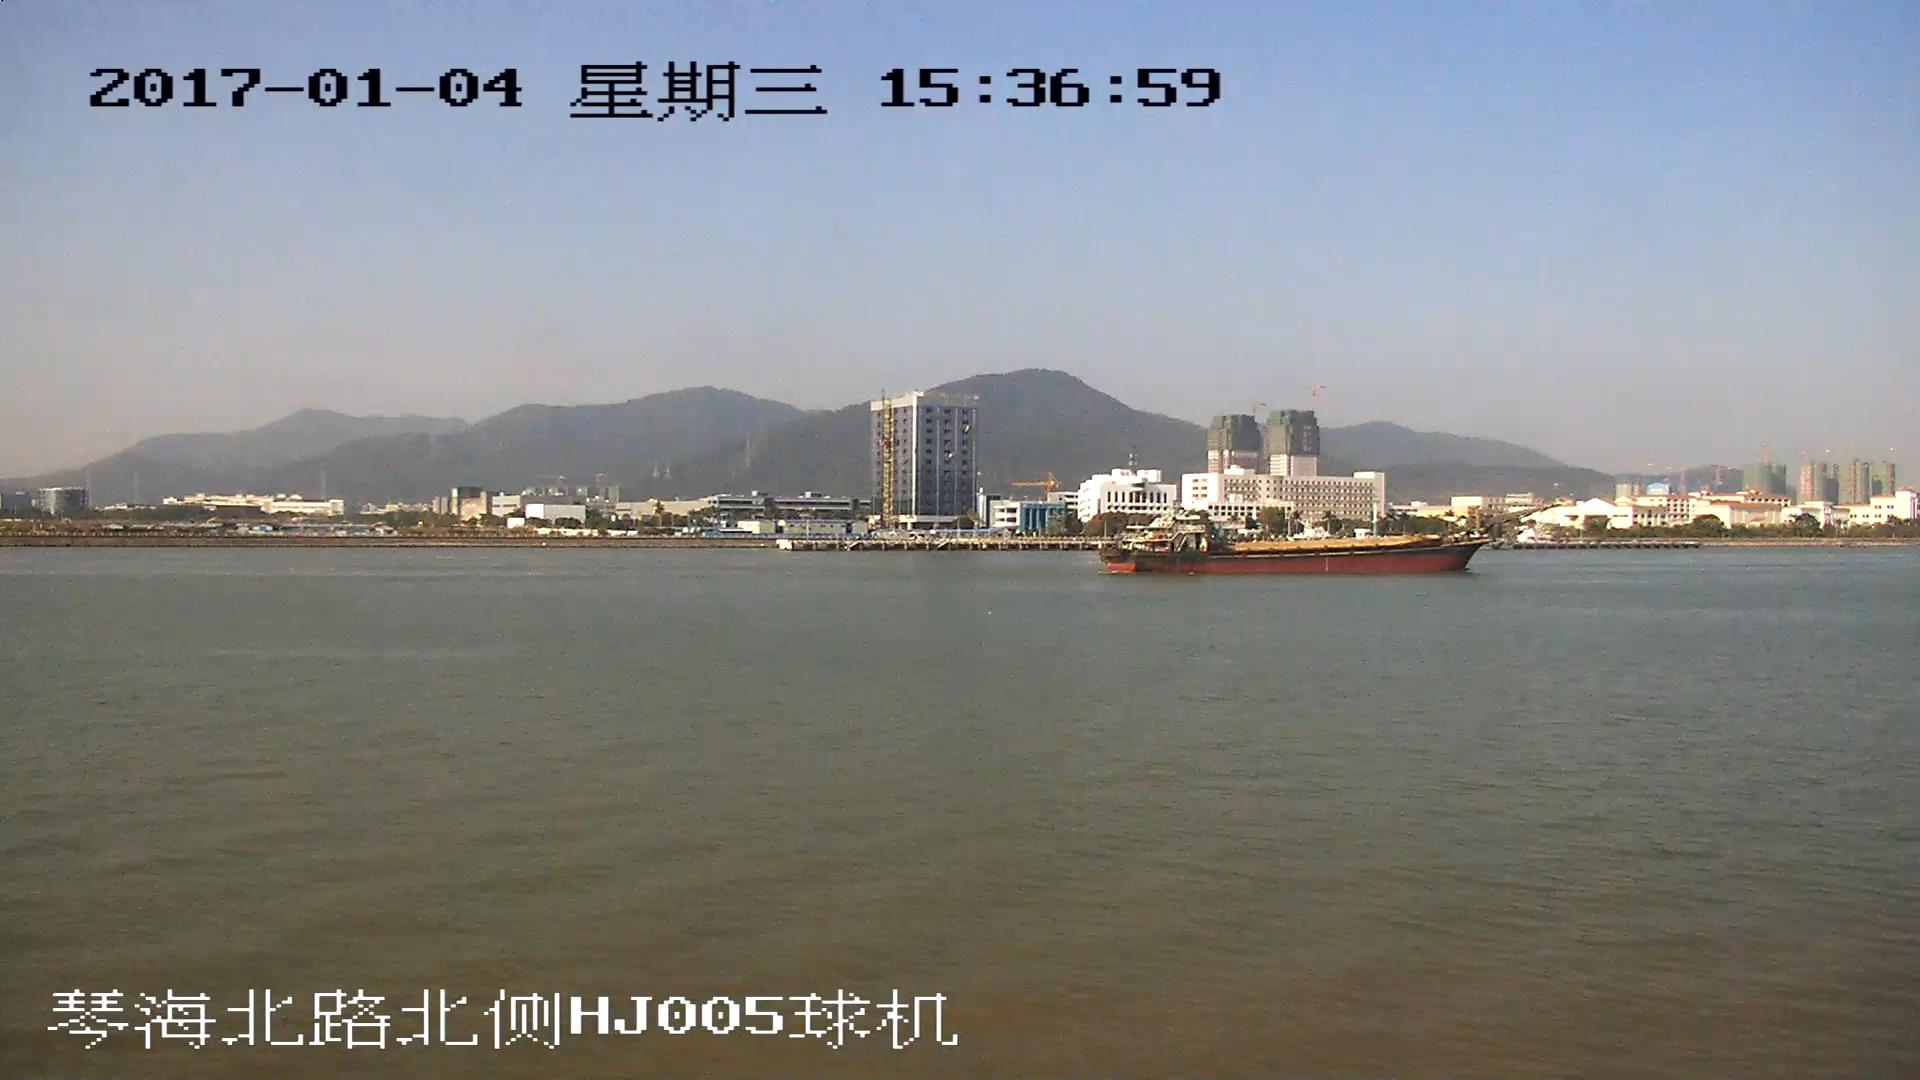bulk cargo carrier: (1101, 502, 1571, 575)
